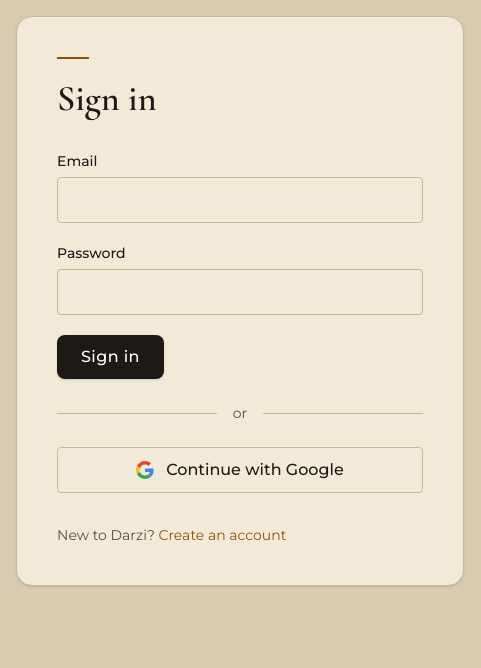
LoginPage › shows a friendly message on auth failure
In the field labelled "Email": (240, 200) x1=57 y1=177 x2=423 y2=223, type "ali@test.com"
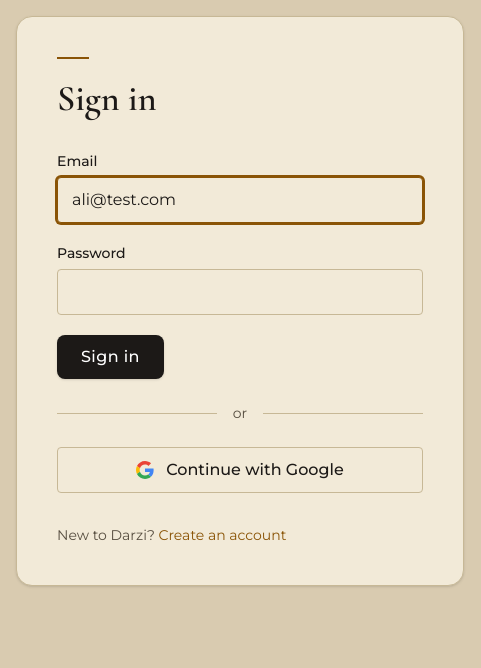
In the password field labelled "Password": (240, 292) x1=57 y1=269 x2=423 y2=315, type "wrongpass1"
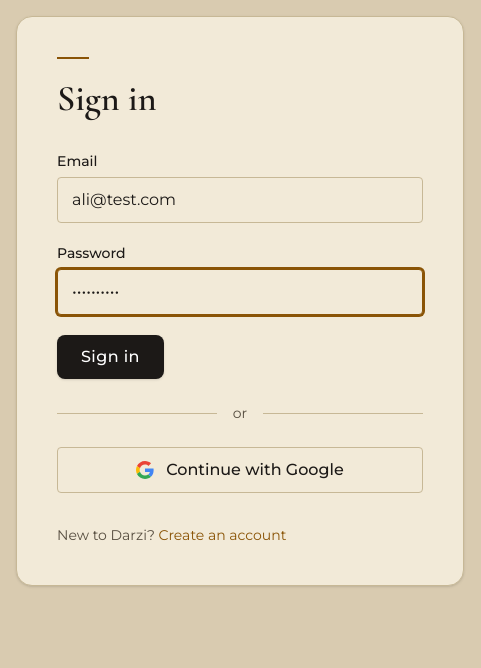
Click the button "Sign in": (110, 357) x1=57 y1=335 x2=164 y2=379
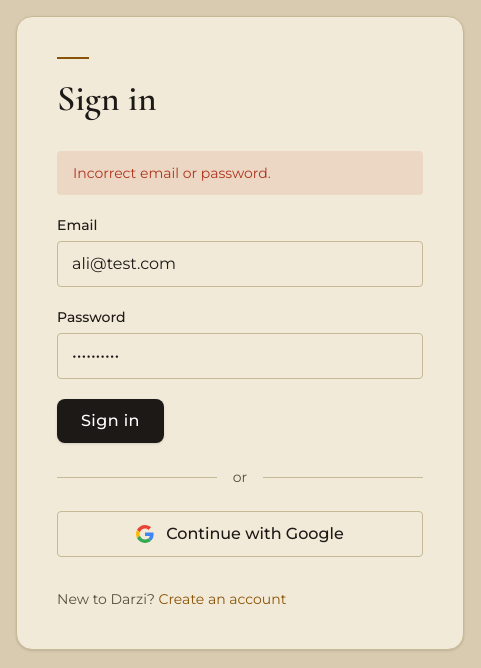
Now the message reads "Incorrect email or password.", box x1=73 y1=164 x2=271 y2=182
